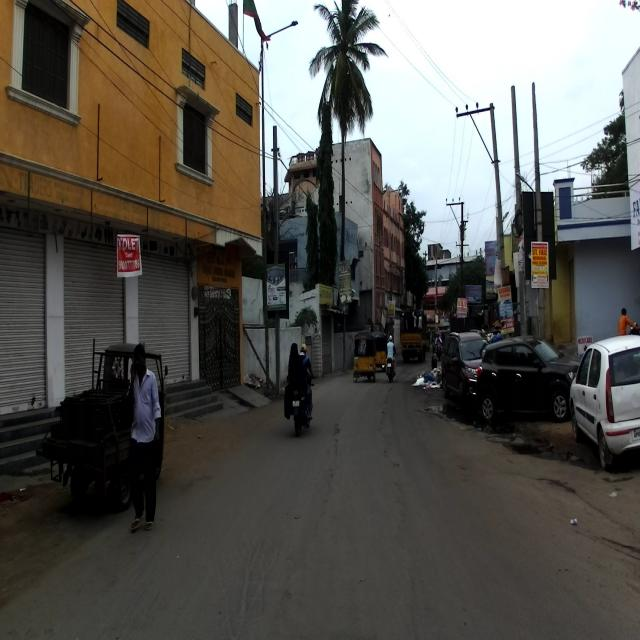autorickshaw: (37, 335, 169, 516)
car: (568, 334, 640, 470), (475, 335, 582, 424)
motorcycle: (286, 371, 316, 436)
